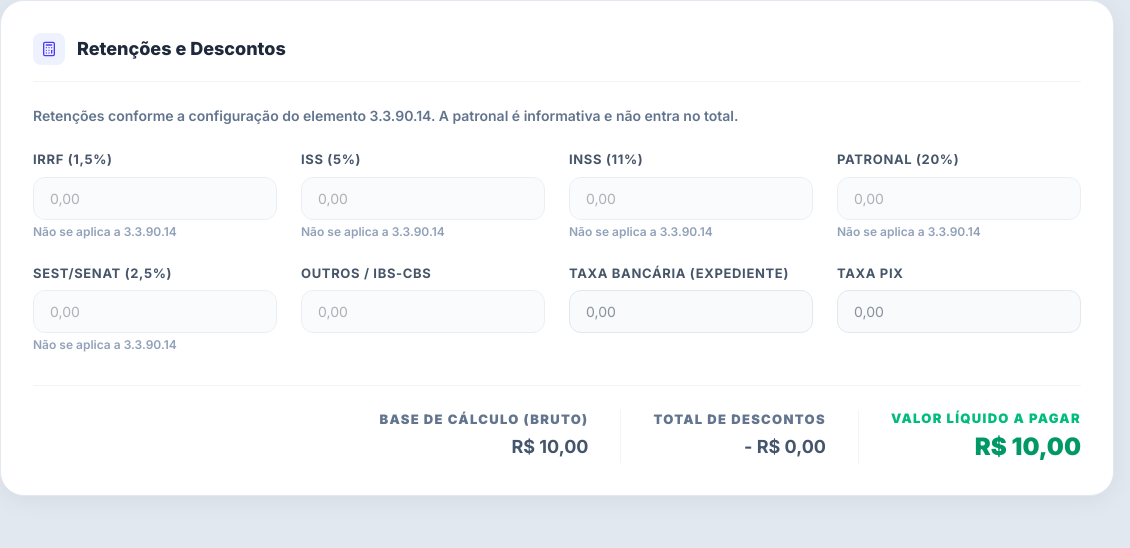
it: OpTaxesSection — camposInformados (contrato com o servidor da T10) › descontos maiores que o bruto mostram alerta
Step 1. Type "2000" into the field labelled "Taxa bancária (expediente)" → (691,312), box x1=569 y1=290 x2=813 y2=333
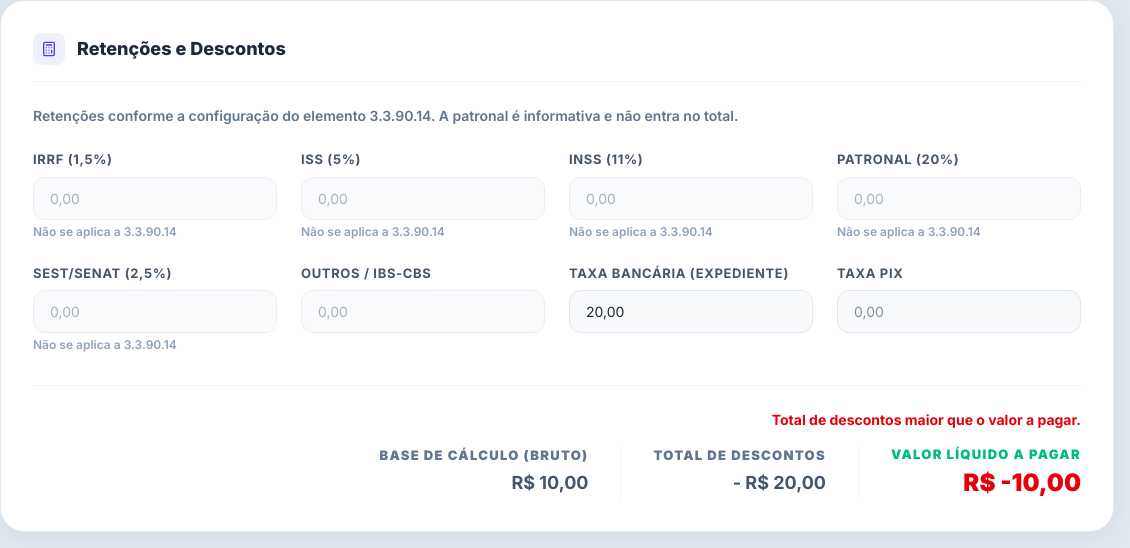
Expected: the message shows "maior que o valor a pagar", x1=772 y1=411 x2=1081 y2=428
